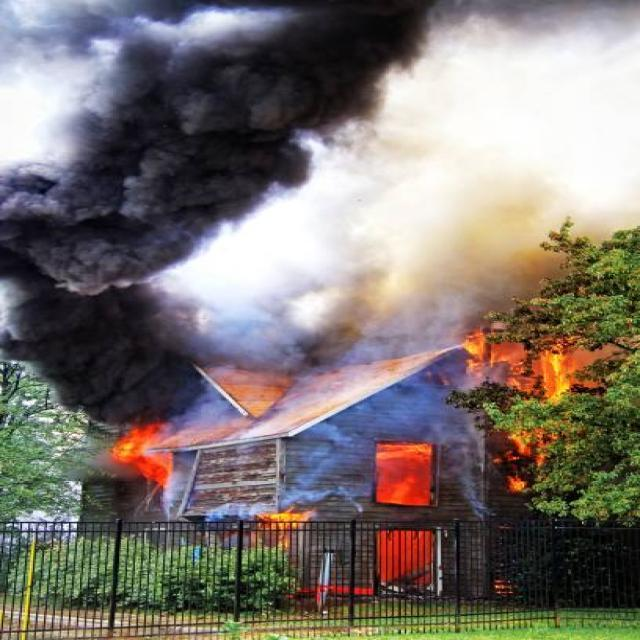Fire: (462, 339, 607, 399), (110, 432, 175, 479), (383, 448, 439, 498)
Smoke: (8, 4, 640, 228), (130, 222, 507, 332), (2, 222, 188, 408)
